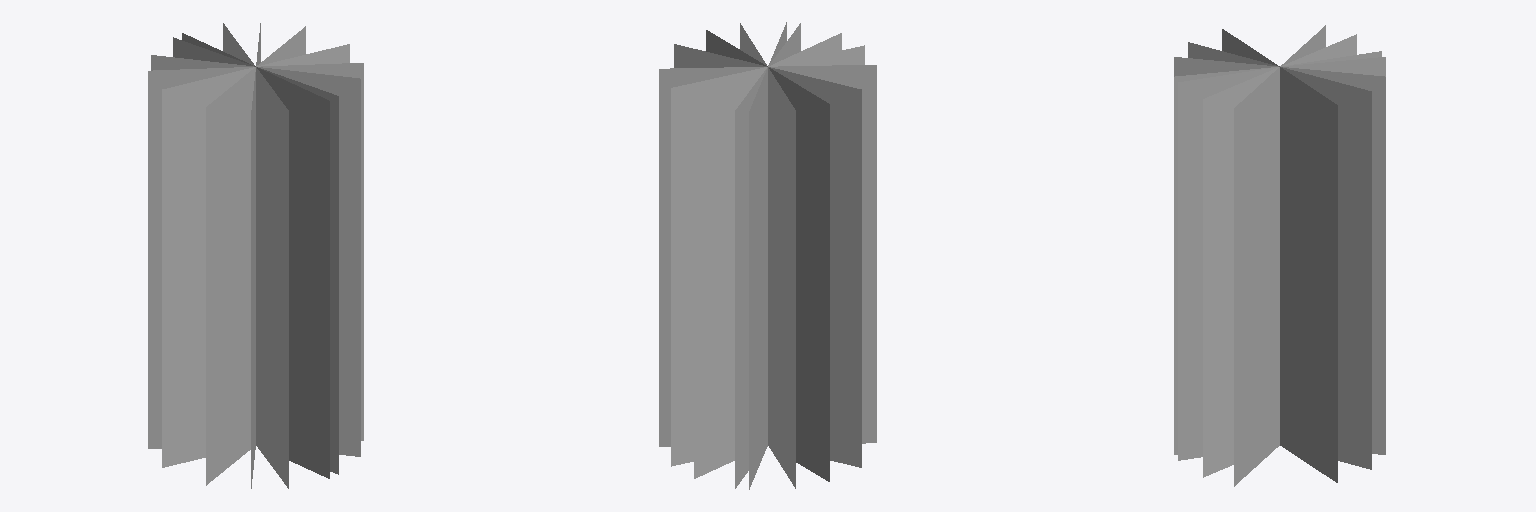
Rendered from tree_1.obj.
3 renders of one model, left to right at view 1: azimuth 30°, elevation 25°; view 2: azimuth 150°, elevation 25°; view 3: azimuth 270°, elevation 25°, orthographic.
Parts seen in each view (by area): view 1: cube; view 2: cube; view 3: cube.
Part boxes in pixels (left/top/right/bottom): cube: left=148, top=23, right=363, bottom=488; cube: left=659, top=22, right=876, bottom=489; cube: left=1174, top=25, right=1385, bottom=486.
Bounding box in the file's own units: 3.12 × 6 × 3.05.